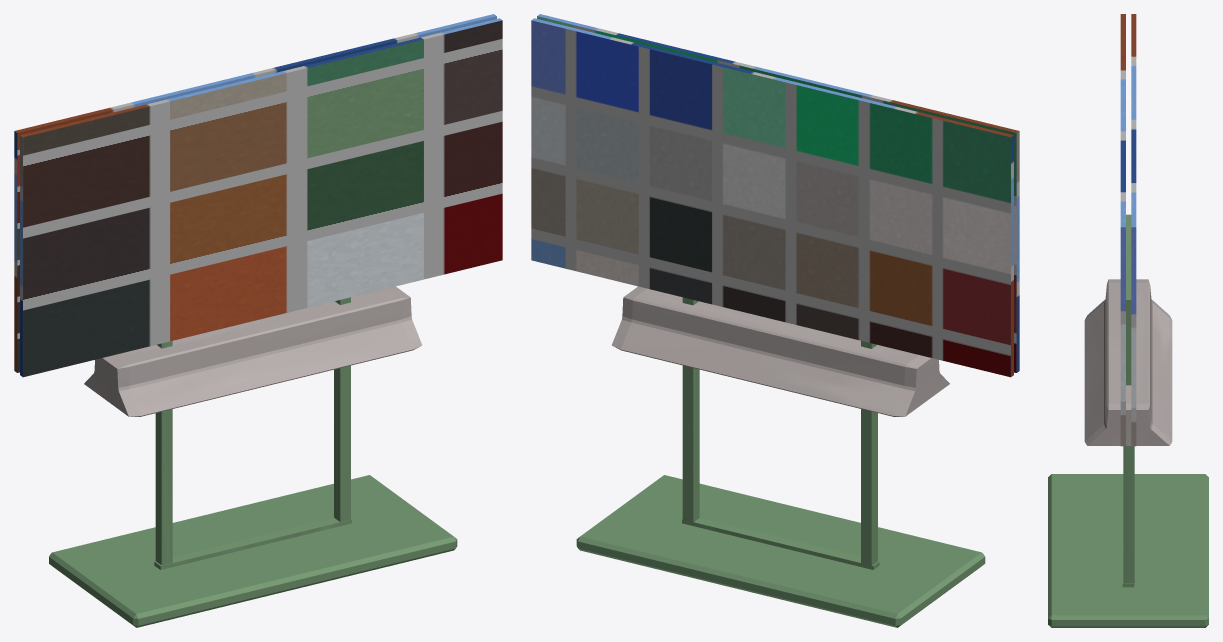
File: Tabela.fbx
The picture shows the model from 3 angles, left to right: view 1: azimuth 30°, elevation 25°; view 2: azimuth 150°, elevation 25°; view 3: azimuth 270°, elevation 25°; orthographic projection. The views are drawn at different scales.
Parts seen in each view (by area): view 1: Holo, Alt; view 2: Holo, Alt; view 3: Alt, Holo.
Boxes of the visible parts, x1,y1,x2,y2 form: Holo: [14, 14, 502, 377]; Alt: [49, 286, 457, 627]; Holo: [531, 14, 1019, 377]; Alt: [576, 286, 985, 627]; Alt: [1048, 214, 1208, 627]; Holo: [1120, 14, 1136, 446].
Size of the model in its own units: 88.73 by 85.1 by 28.23.
